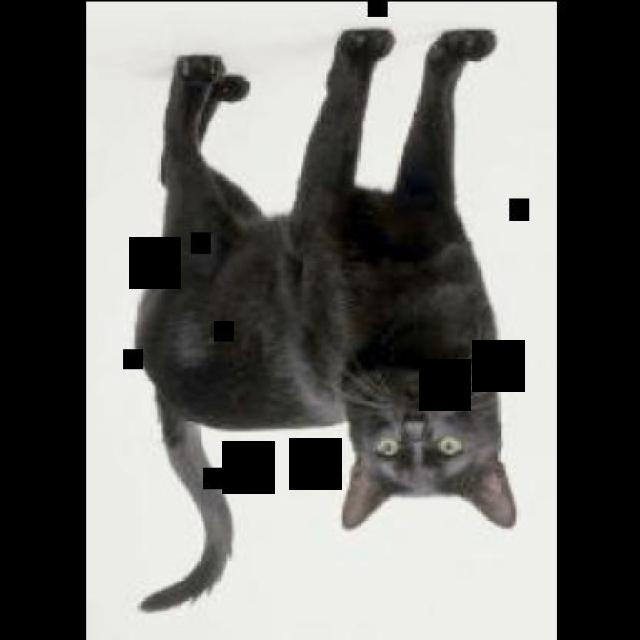unauthorized: (132, 26, 394, 612), (329, 26, 517, 532)
